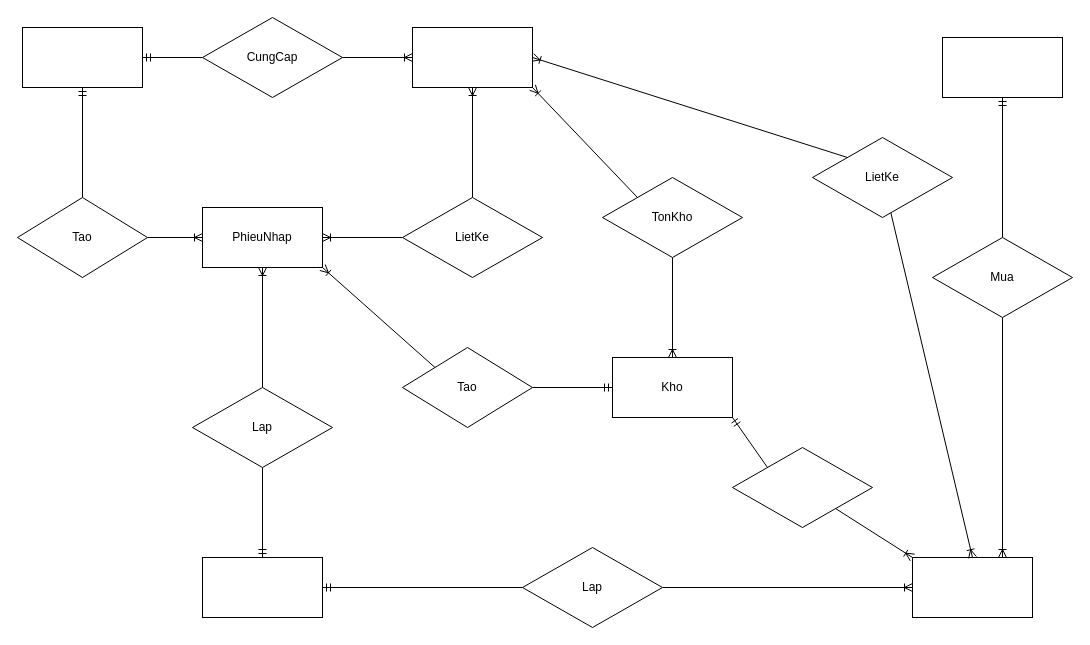
Some shapes in this 1090 by 645 pixel diagram are drawn without their labels. Here are the shapes that lost their labels. From the top down, the centre of each, then its label:
(x=82, y=57): NhaCungCap
(x=472, y=57): SanPham
(x=1002, y=67): KhachHang
(x=802, y=487): Chuyen
(x=262, y=587): NhanVien
(x=972, y=587): DonHang
